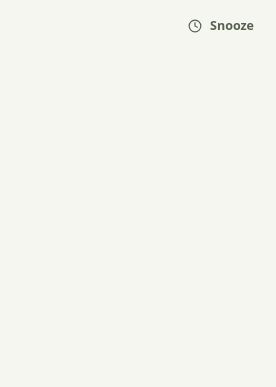
Test: a 422 explains the bound rather than showing a bare status
Press Enter in the button with aria-label "snooze this thread", box [178,12,264,40]
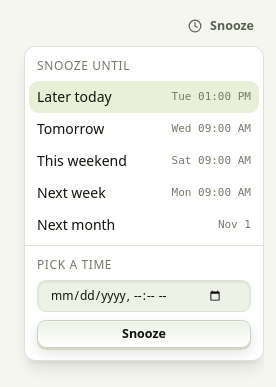
Click the text "Tomorrow". click: (71, 128)
box: [37,119,104,138]
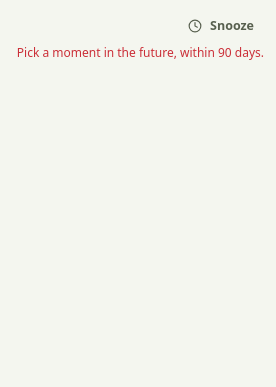
Expected: the message does not show "422", [17,44,264,62]
Now the message shows "within 90 days", box [17,44,264,61]
